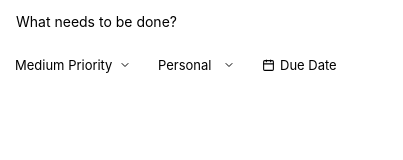
Test: AddTodoForm › shows the date picker when Due Date button is clicked
The width and height of the screenshot is (403, 160).
Click the button "Due Date": (299, 65) [251, 49, 348, 81]
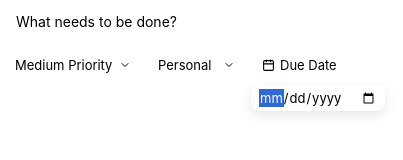
Result: the date field is shown at [251, 85, 385, 111]
